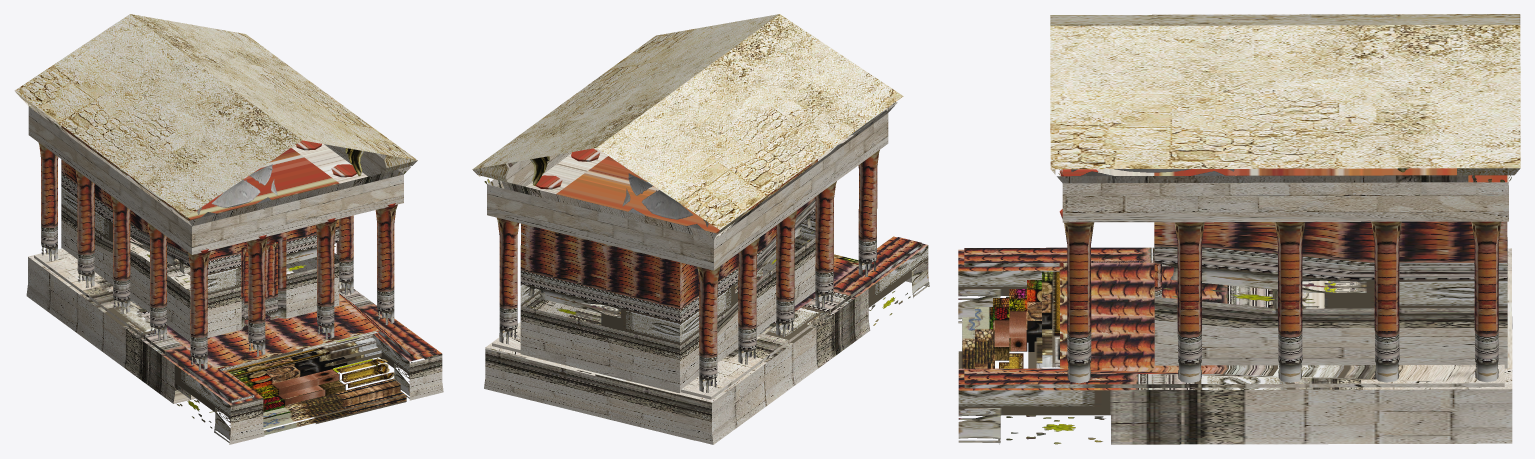
Rendered from roman_temple.dae.
The picture shows the model from 3 angles, left to right: view 1: azimuth 30°, elevation 25°; view 2: azimuth 150°, elevation 25°; view 3: azimuth 270°, elevation 25°; orthographic projection. The views are drawn at different scales.
Visible parts, largest first — view 1: Animated; view 2: Animated; view 3: Animated.
Boxes of the visible parts, box(x1,y1,x2,y2) form: Animated: box(14, 14, 443, 444); Animated: box(472, 14, 929, 444); Animated: box(958, 14, 1520, 444).
Bounding box in the file's own units: 11.82 × 18.16 × 12.43.
